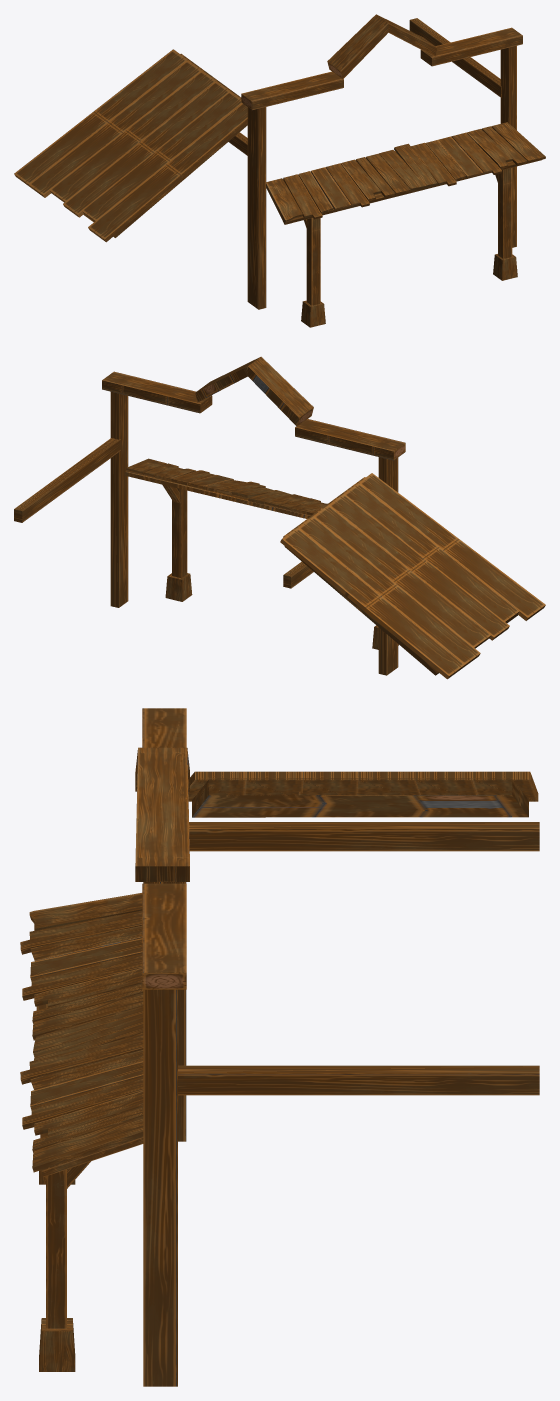
File: SM_13_wood.fbx
The picture shows the model from 3 angles, top to bottom: view 1: azimuth 30°, elevation 25°; view 2: azimuth 150°, elevation 25°; view 3: azimuth 270°, elevation 25°; orthographic projection. The views are drawn at different scales.
Visible parts, largest first — view 1: Cube.001; view 2: Cube.001; view 3: Cube.001.
Boxes of the visible parts, box(x1,y1,x2,y2) form: Cube.001: box(14, 14, 545, 327); Cube.001: box(14, 356, 545, 679); Cube.001: box(20, 708, 539, 1386).
Bounding box in the file's own units: 18.48 × 11.24 × 10.13.
